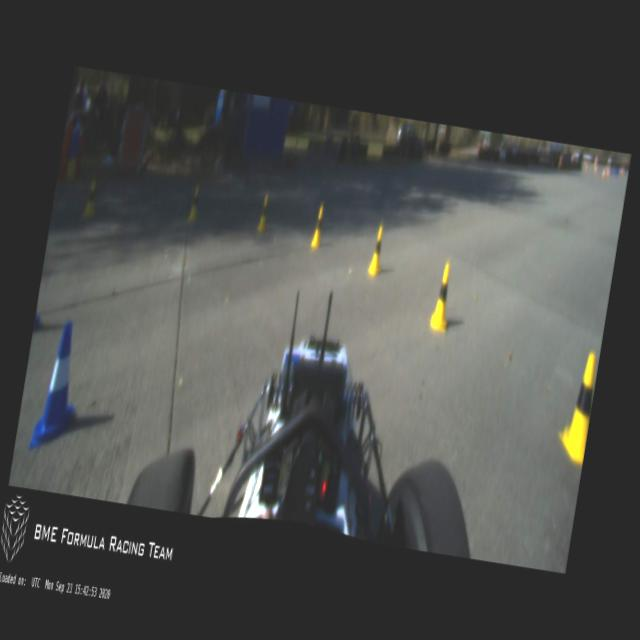blue_cone: (30, 318, 89, 456)
yellow_cone: (555, 348, 600, 463), (429, 262, 457, 336), (367, 224, 388, 278), (309, 204, 327, 250), (82, 180, 100, 218), (256, 193, 272, 234), (186, 186, 202, 224)
